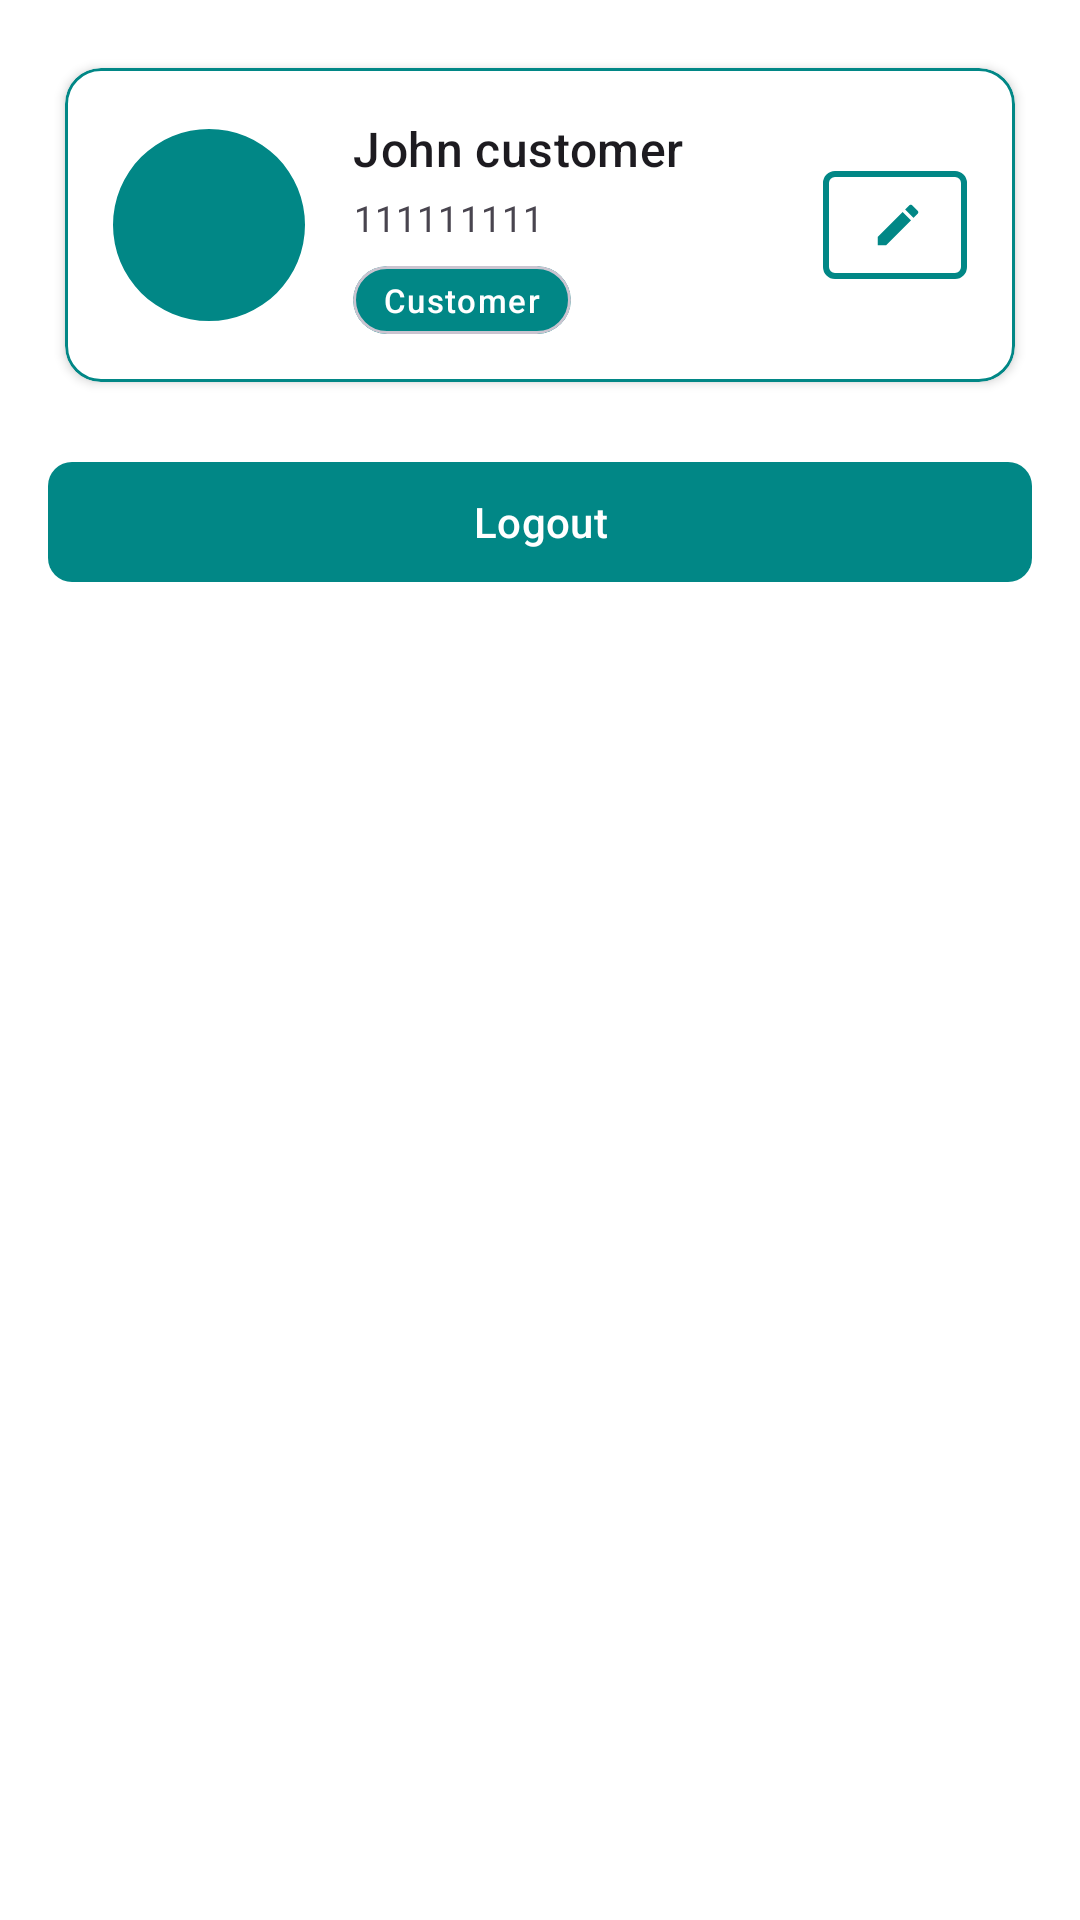

Icons on this 1080*1920 Android screen, each with its box as (x1, y1, x2, y2):
edit: (823, 171, 967, 279)
